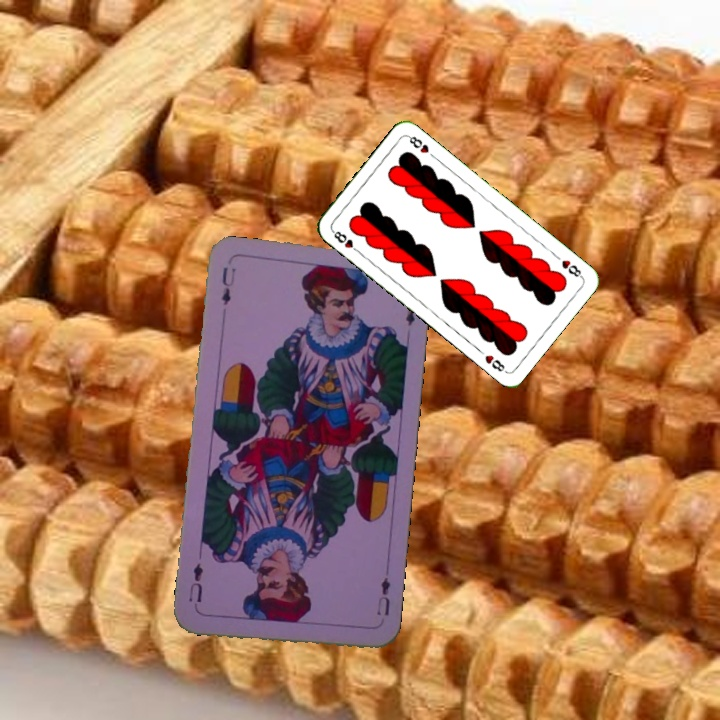EU: (372, 573, 393, 618), (217, 263, 238, 308)
H8: (328, 226, 363, 256), (557, 256, 585, 280)
